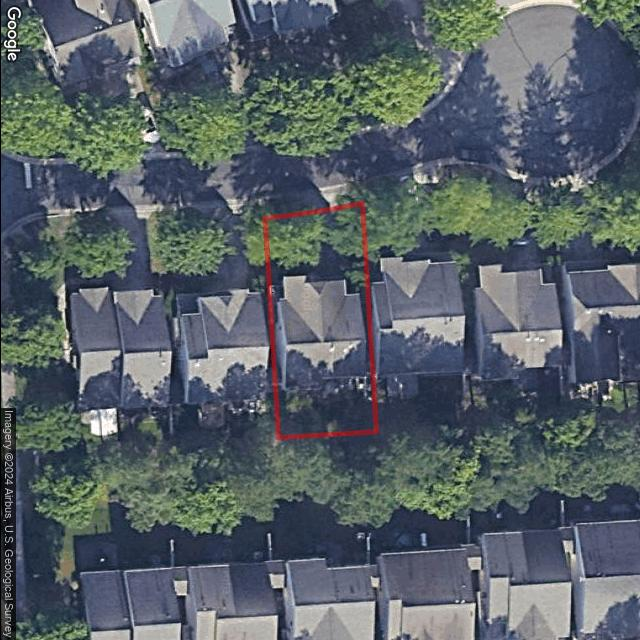Driveway: (316, 208, 345, 279)
Extra-Driveway: (306, 182, 345, 212)
Extra-Lawn: (260, 190, 313, 218), (342, 180, 362, 209)
House: (275, 275, 366, 392)
Lawn: (264, 205, 375, 438)
